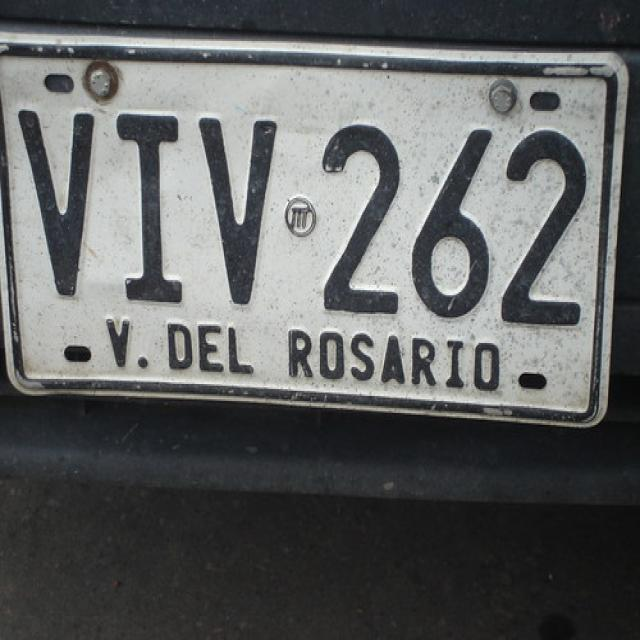placas: (6, 69, 604, 335)
